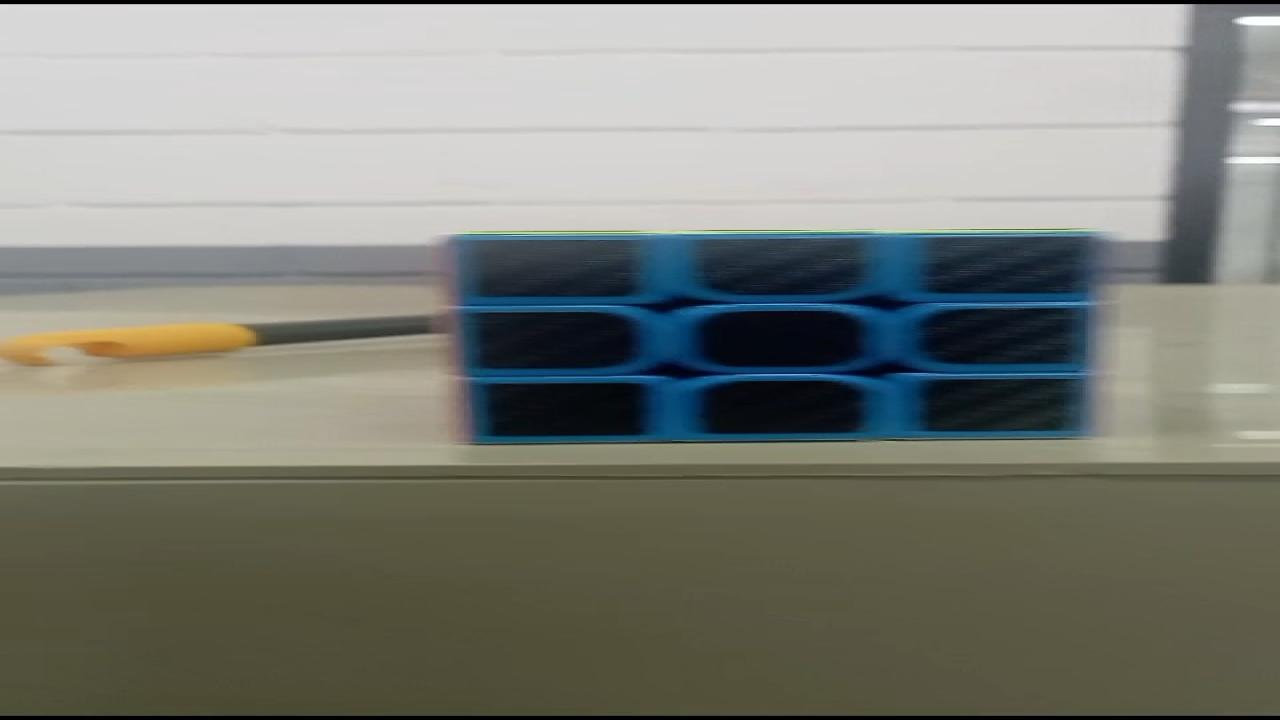Cube: (432, 227, 1107, 445)
